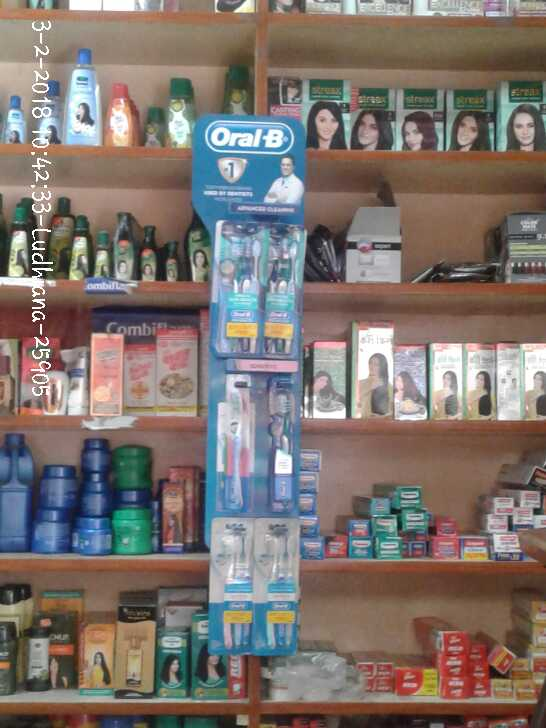oralb: (260, 521, 302, 650), (222, 224, 262, 352), (216, 522, 253, 646), (220, 381, 251, 514), (267, 220, 296, 357), (262, 385, 293, 512)
